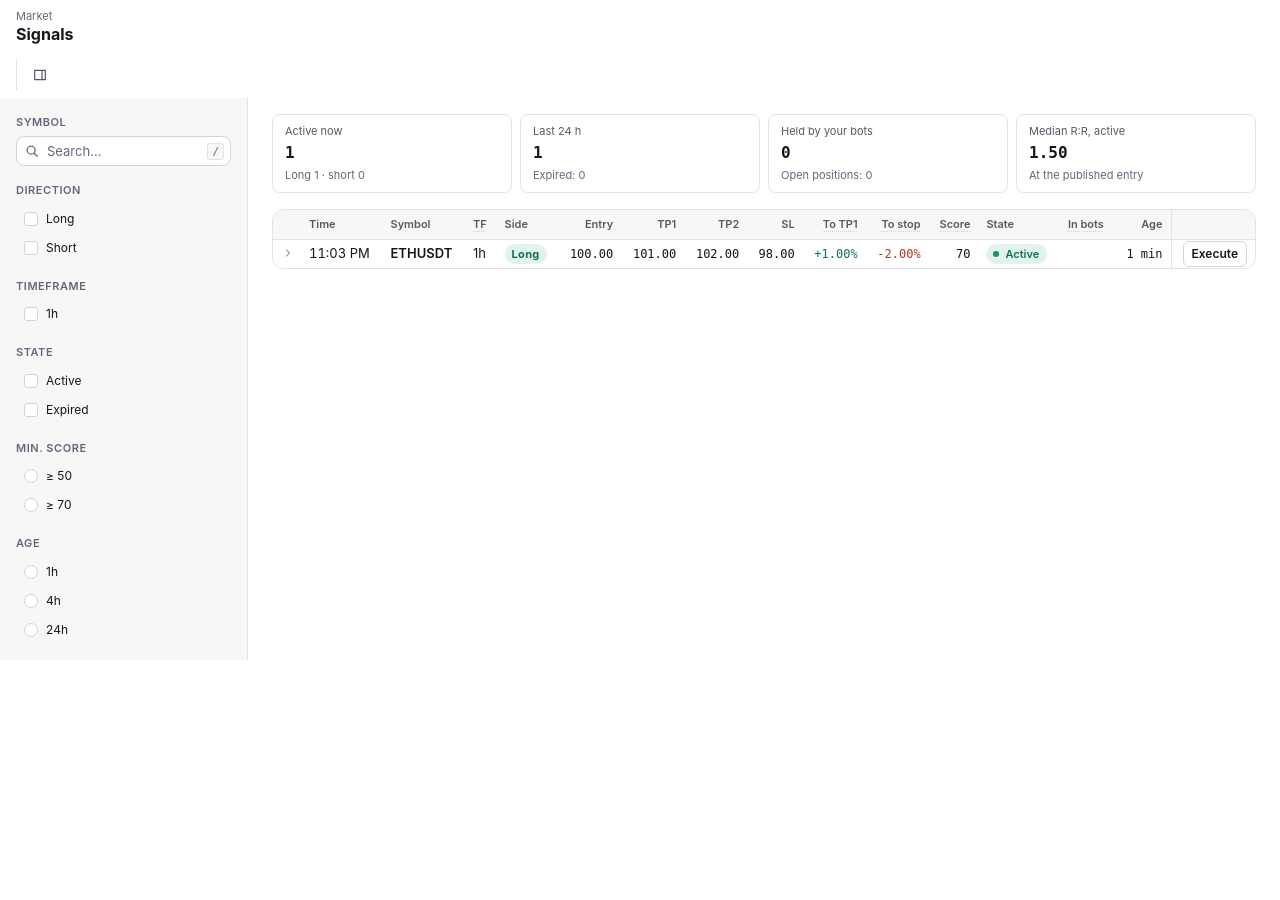
Test: Execute on the Signals page › opens the position and links to Positions & orders and the bot page
Click the button "Execute". click: (1215, 254)
box: 1182,241 -> 1247,267
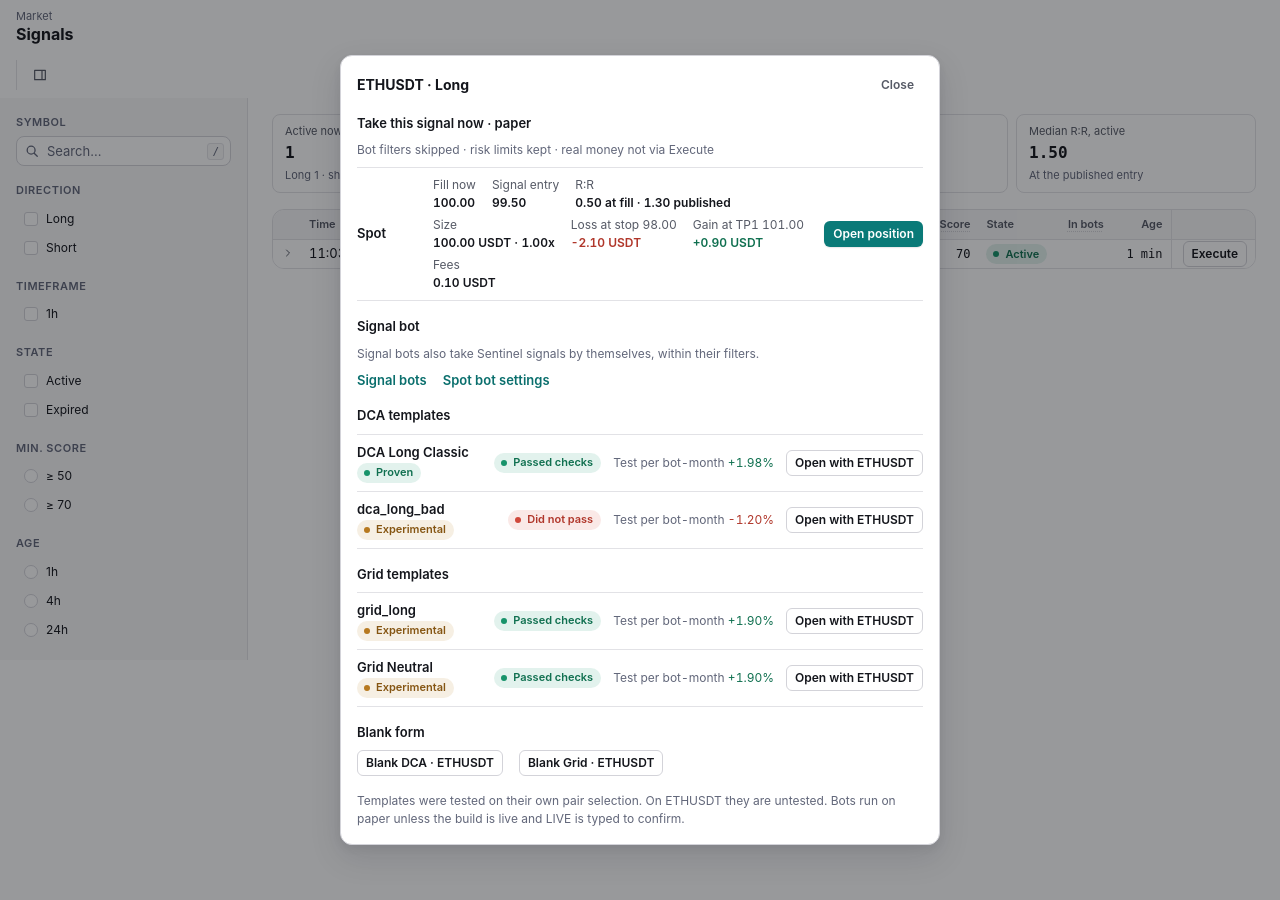
Click the button "Open position". click: (874, 234)
box: 824,221 -> 923,247
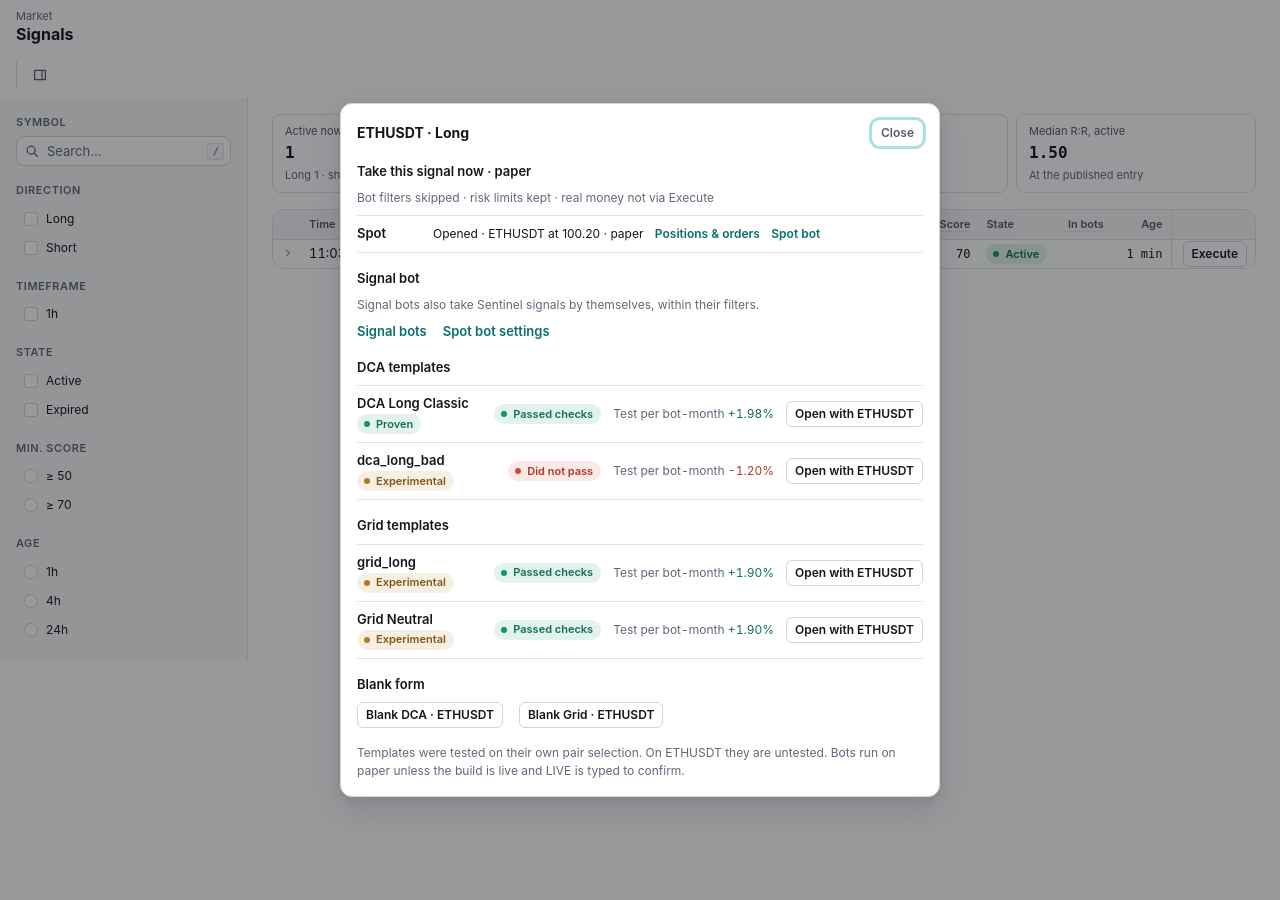
Check: the list item that starts with "Spot" shows "Opened · ETHUSDT at 100.20 · paper", box 433,226 -> 644,241
